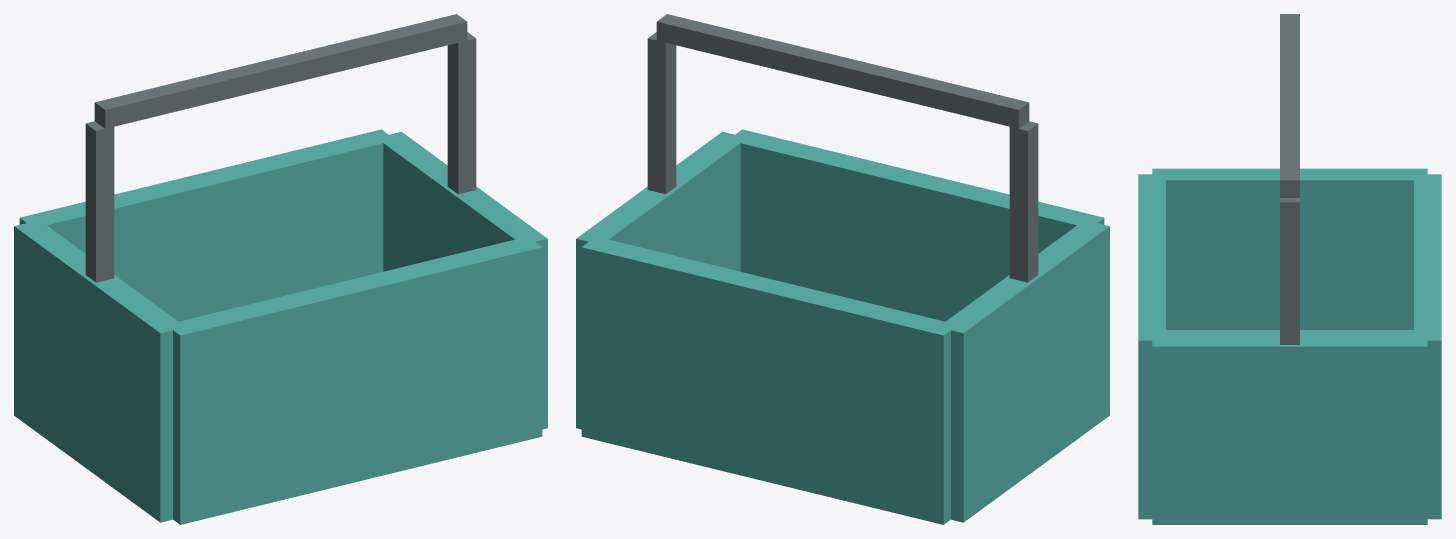
File: supermarket-operations-hand-basket-67a40dca__26776.glb
3 views of the same model, side by side, from view 1: azimuth 30°, elevation 25°; view 2: azimuth 150°, elevation 25°; view 3: azimuth 270°, elevation 25° (orthographic). The views are drawn at different scales.
Visible parts, largest first — view 1: hand-basket; view 2: hand-basket; view 3: hand-basket.
Part boxes in pixels (left/top/right/bottom): hand-basket: left=14, top=14, right=547, bottom=524; hand-basket: left=576, top=14, right=1109, bottom=524; hand-basket: left=1138, top=14, right=1441, bottom=524.
Bounding box in the file's own units: 0.535 × 0.475 × 0.385.
